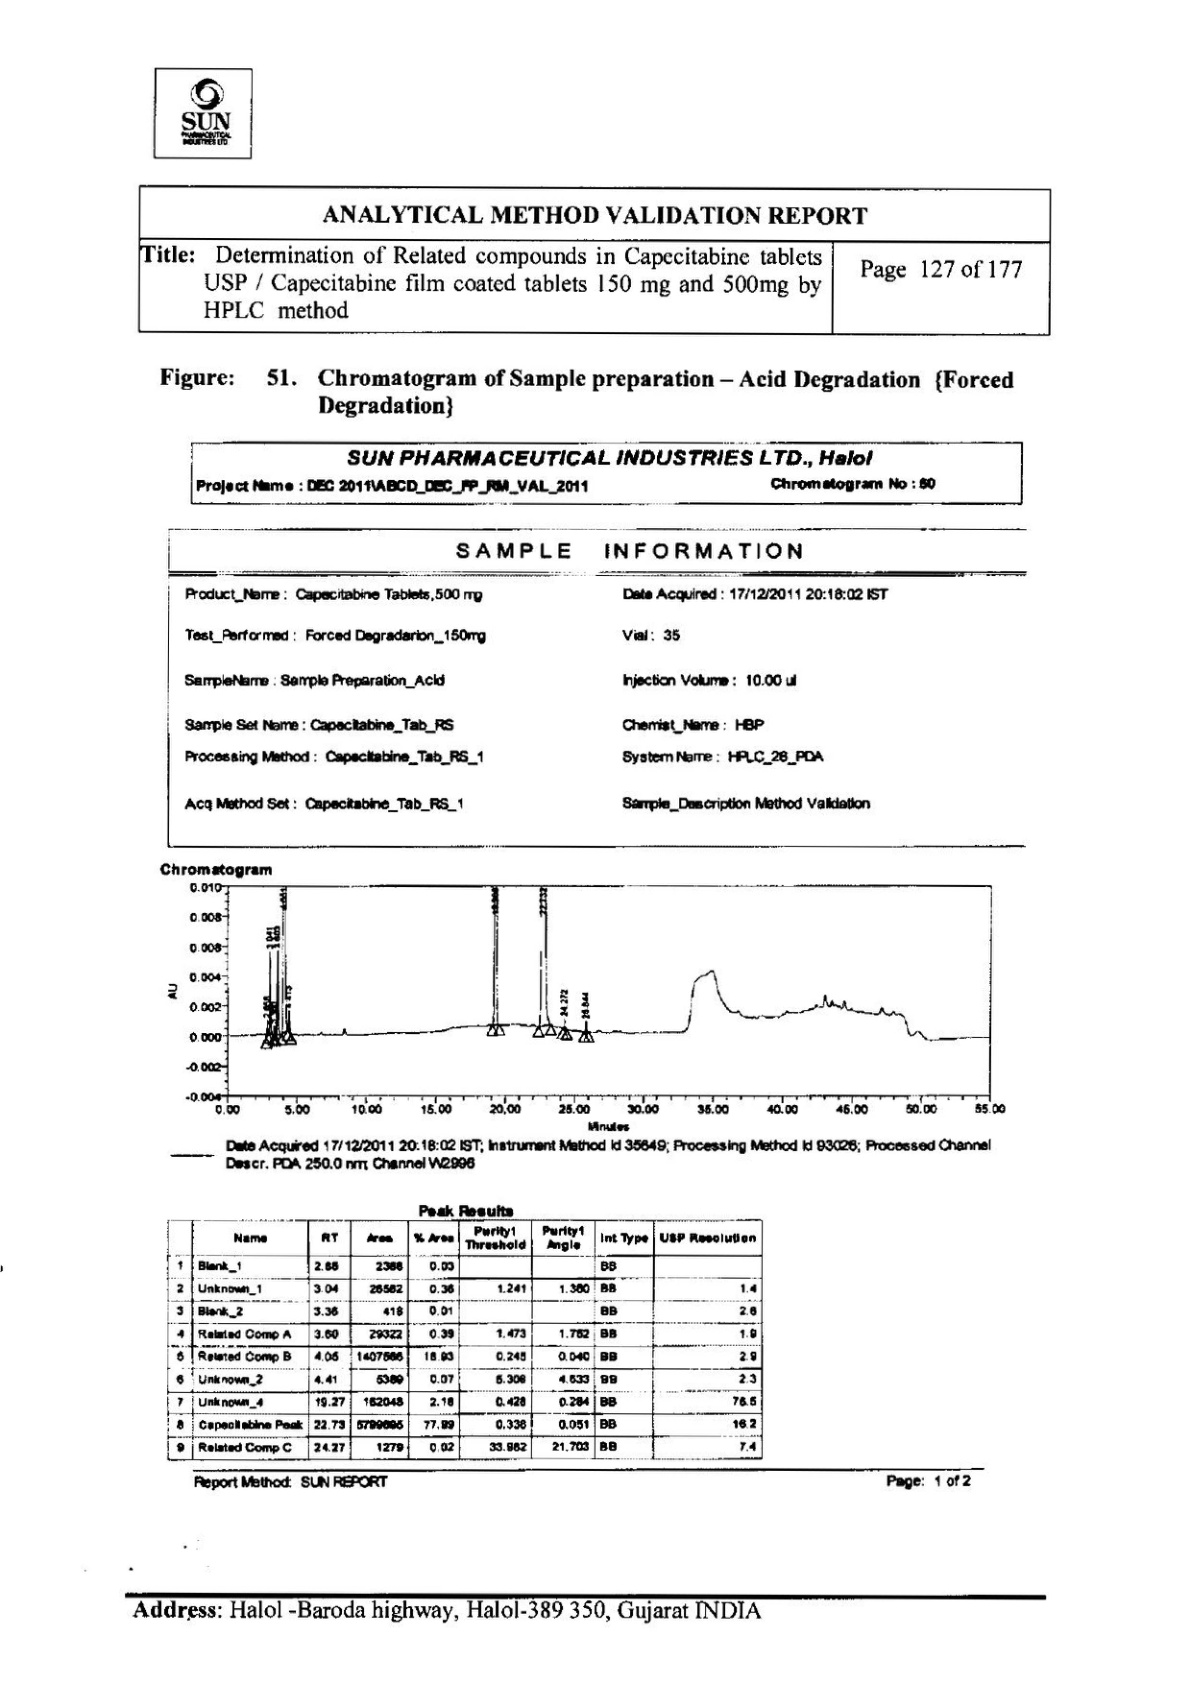full_lined: (168, 1218, 764, 1461)
merged_cells: (137, 184, 1053, 336)
partial_lined_merged_cells: (166, 526, 1030, 849)
